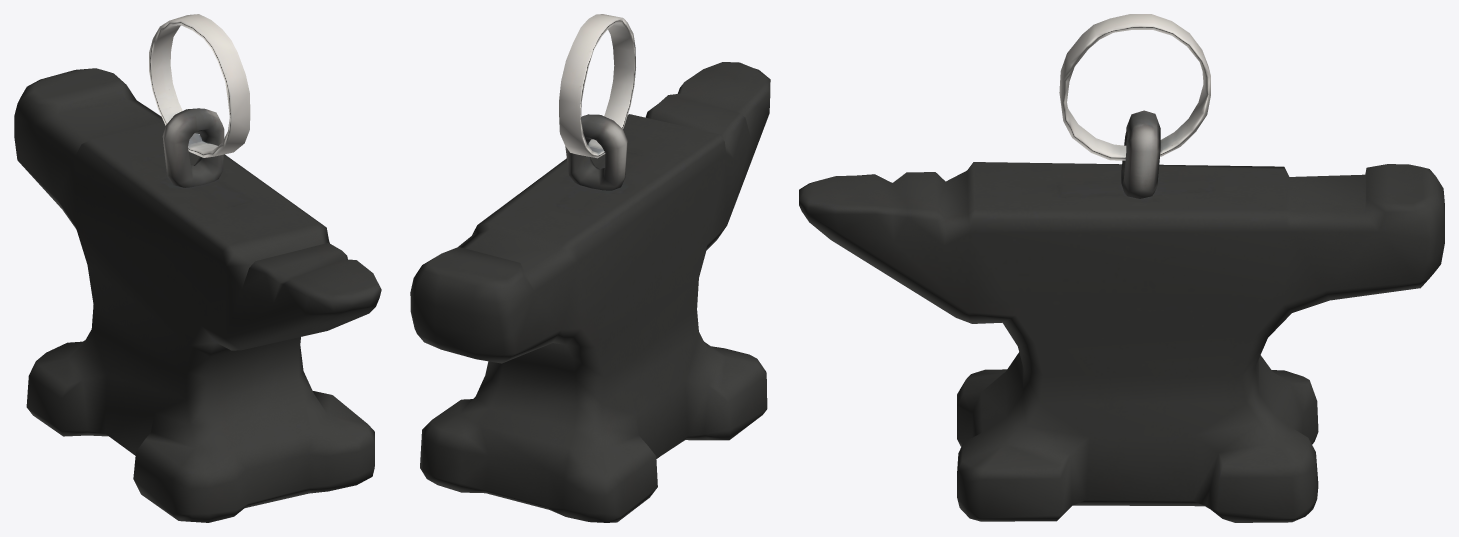
File: charm_bigorna.glb
3 views of the same model, side by side, from view 1: azimuth 30°, elevation 25°; view 2: azimuth 150°, elevation 25°; view 3: azimuth 270°, elevation 25° (orthographic). The views are drawn at different scales.
Parts seen in each view (by area): view 1: tripo_node_e26754c5-24f5-473b-bf2a-f1b70d265dfa; view 2: tripo_node_e26754c5-24f5-473b-bf2a-f1b70d265dfa; view 3: tripo_node_e26754c5-24f5-473b-bf2a-f1b70d265dfa.
Boxes of the visible parts, box(x1,y1,x2,y2) form: tripo_node_e26754c5-24f5-473b-bf2a-f1b70d265dfa: box(14, 14, 381, 522); tripo_node_e26754c5-24f5-473b-bf2a-f1b70d265dfa: box(410, 14, 770, 522); tripo_node_e26754c5-24f5-473b-bf2a-f1b70d265dfa: box(799, 14, 1444, 522).
Size of the model in its own units: 0.3887 by 0.7793 by 0.998.
1 material, 1 textured.
